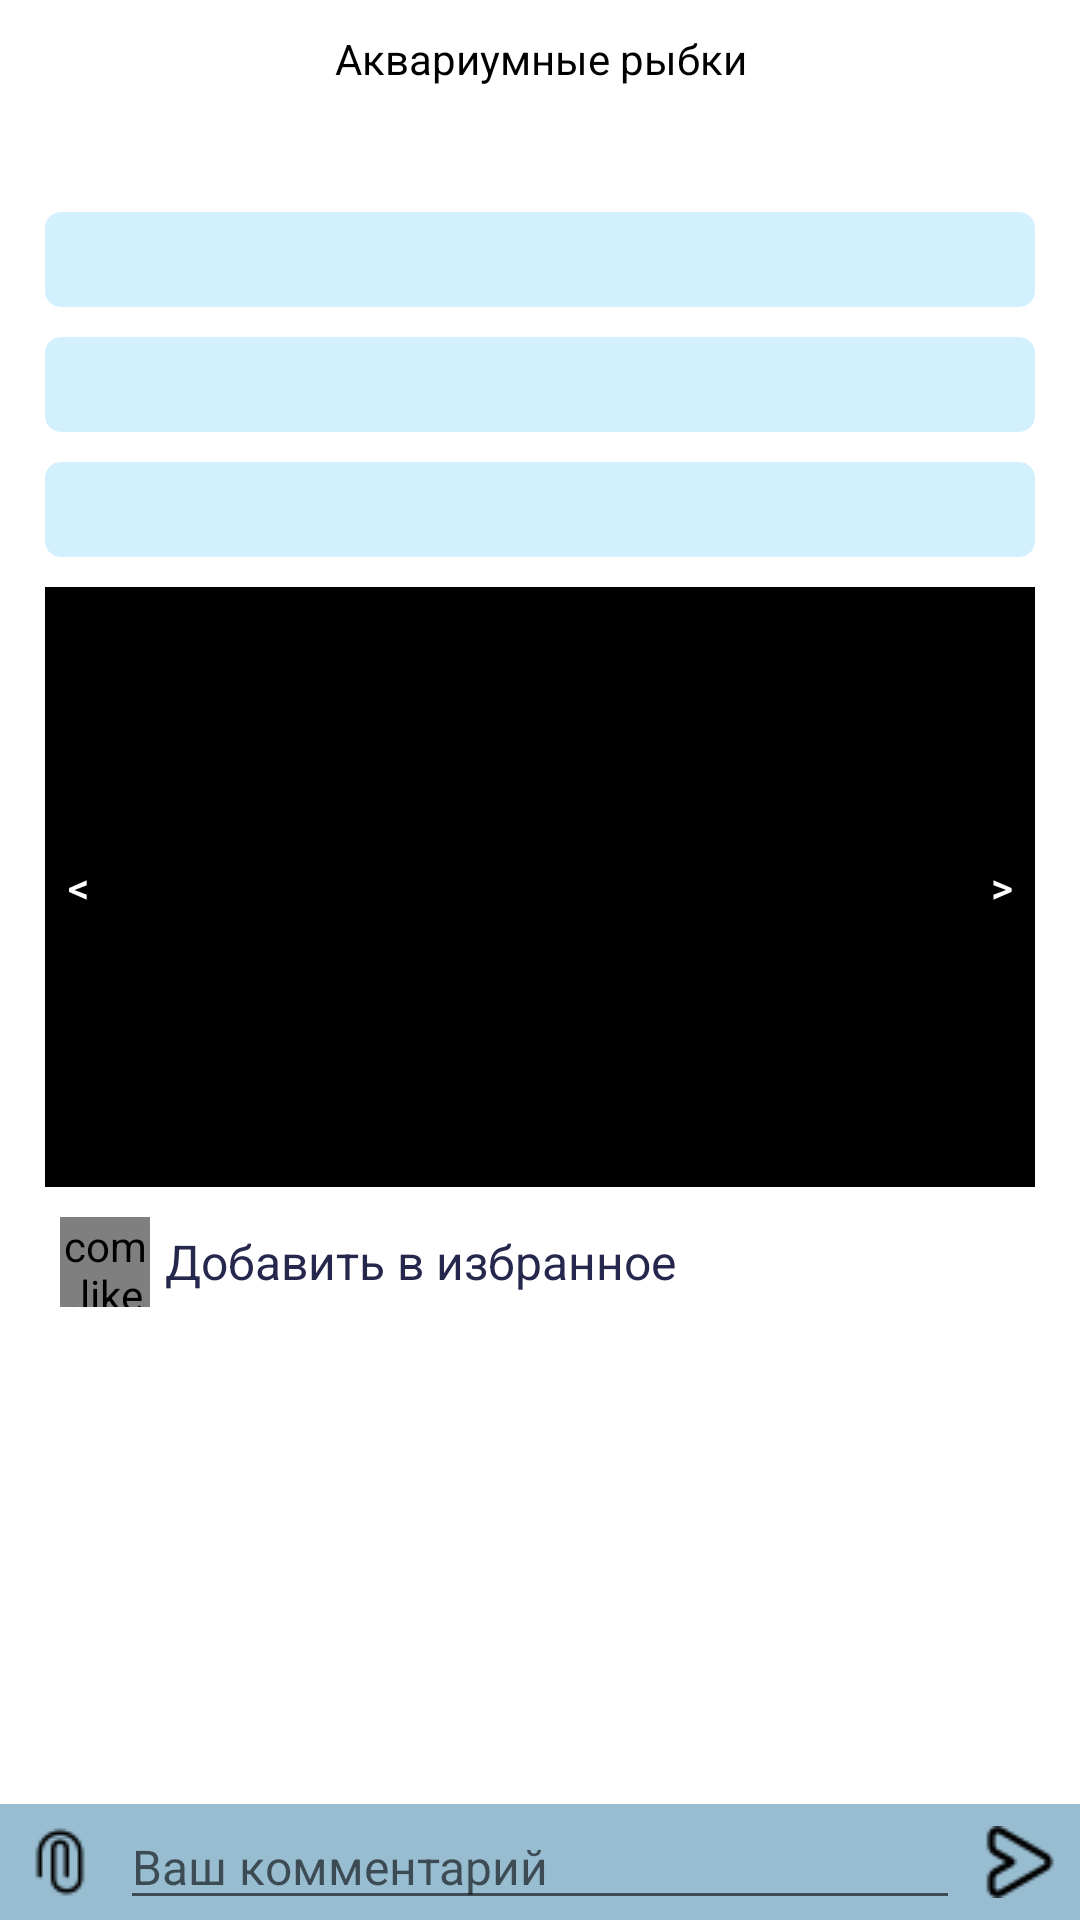

Icons on this 1080 × 1920 Android screen, each with its box as (x1, y1, x2, y2):
send: (986, 1826, 1054, 1898)
